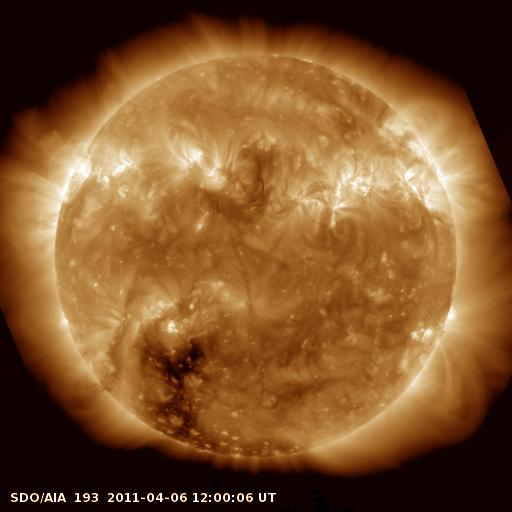coronal_hole: (139, 330, 217, 456)
